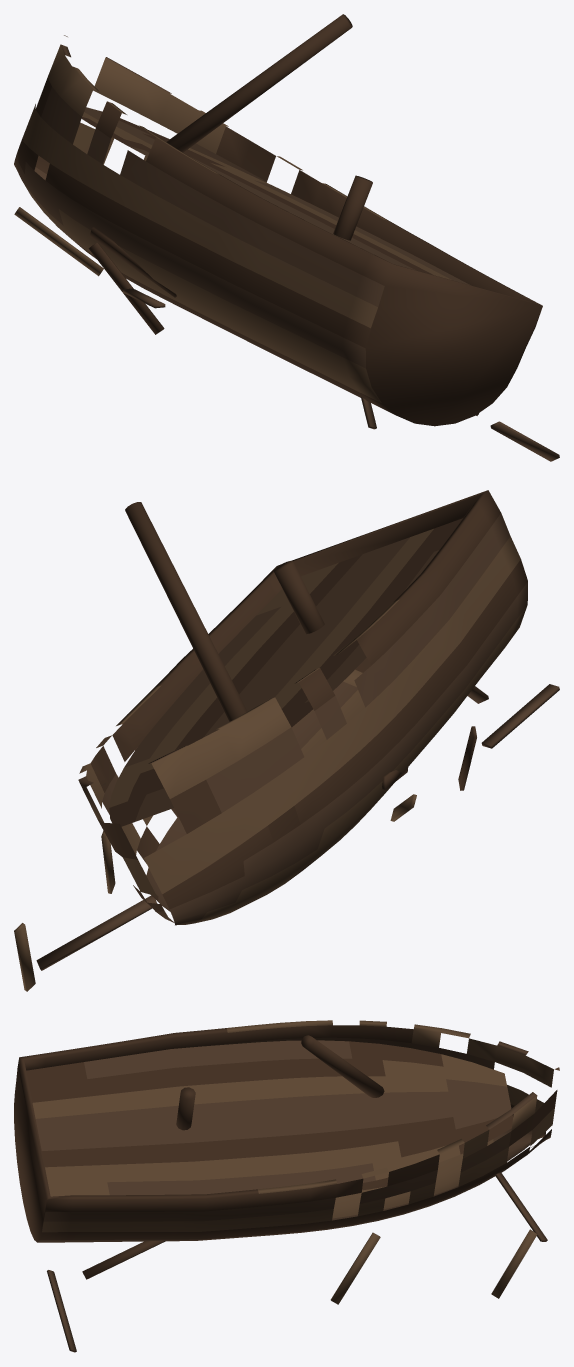
The model's file is shipwreck.glb.
The picture shows the model from 3 angles, top to bottom: view 1: azimuth 30°, elevation 25°; view 2: azimuth 150°, elevation 25°; view 3: azimuth 270°, elevation 25°; orthographic projection. The views are drawn at different scales.
Parts seen in each view (by area): view 1: Shipwreck; view 2: Shipwreck; view 3: Shipwreck.
Boxes of the visible parts, box(x1,y1,x2,y2) form: Shipwreck: box(14, 14, 559, 461); Shipwreck: box(14, 490, 559, 991); Shipwreck: box(14, 1020, 559, 1352).
Bounding box in the file's own units: 14.97 × 14.39 × 24.43.
